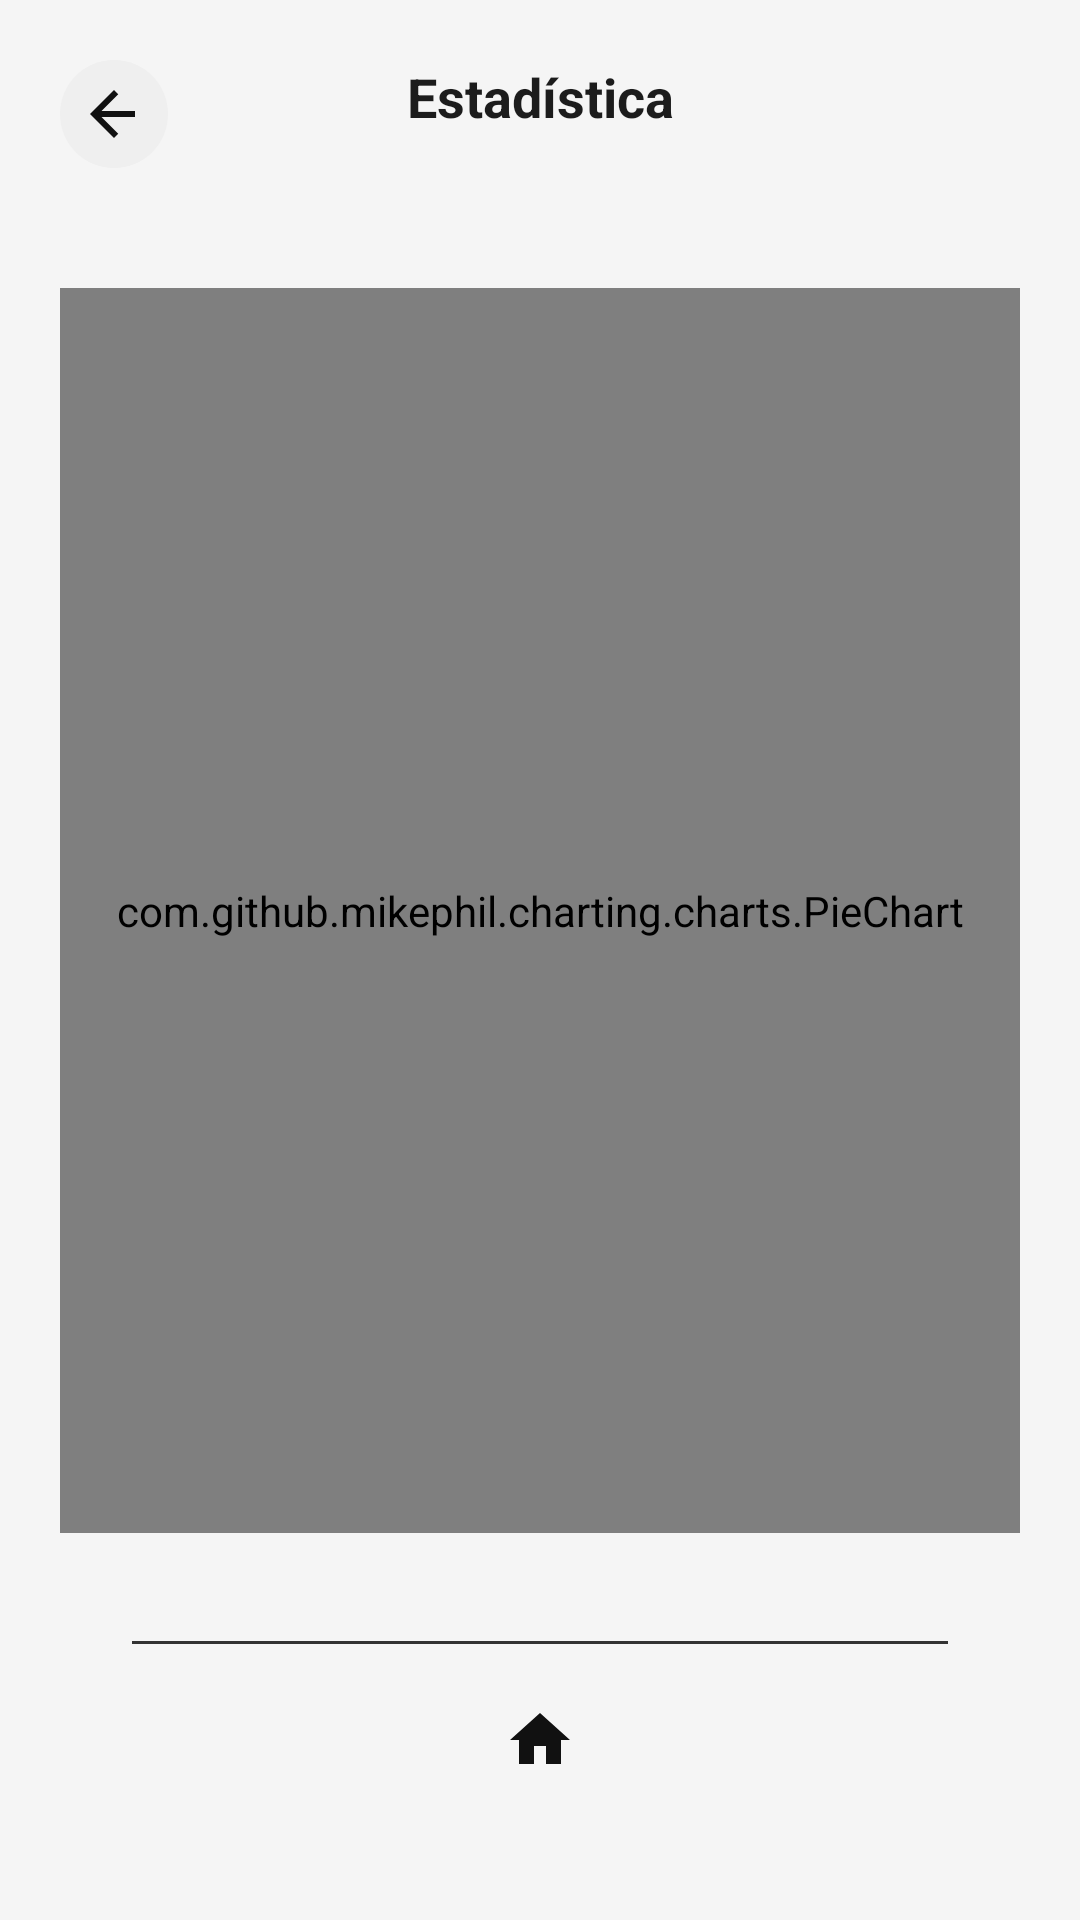

Icon click points for this 1080 x 1920 phone screenshot, format [x,y]:
back: [112,114]
home: [540,1738]
